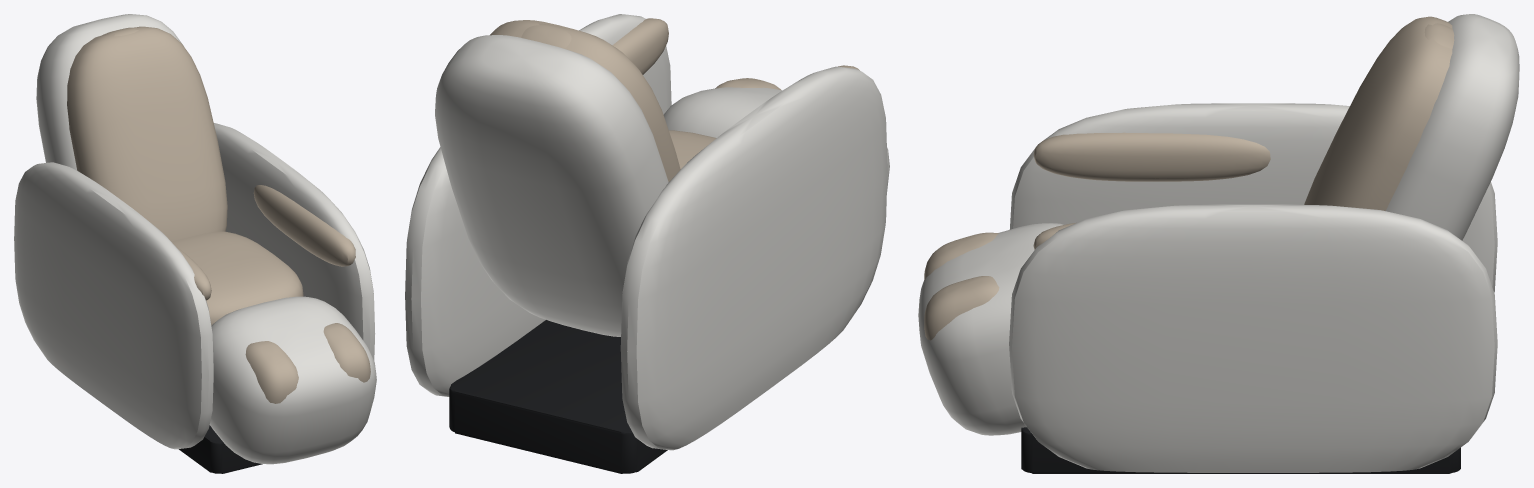
The picture shows the model from 3 angles, left to right: view 1: azimuth 30°, elevation 25°; view 2: azimuth 150°, elevation 25°; view 3: azimuth 270°, elevation 25°; orthographic projection. The views are drawn at different scales.
Parts seen in each view (by area): view 1: MH65CC; view 2: MH65CC; view 3: MH65CC.
Boxes of the visible parts, x1=… form: MH65CC: x1=14, y1=14, x2=376, y2=473; MH65CC: x1=405, y1=14, x2=889, y2=473; MH65CC: x1=918, y1=14, x2=1519, y2=473.
Bounding box in the file's own units: 0.743 × 1.13 × 1.55.
